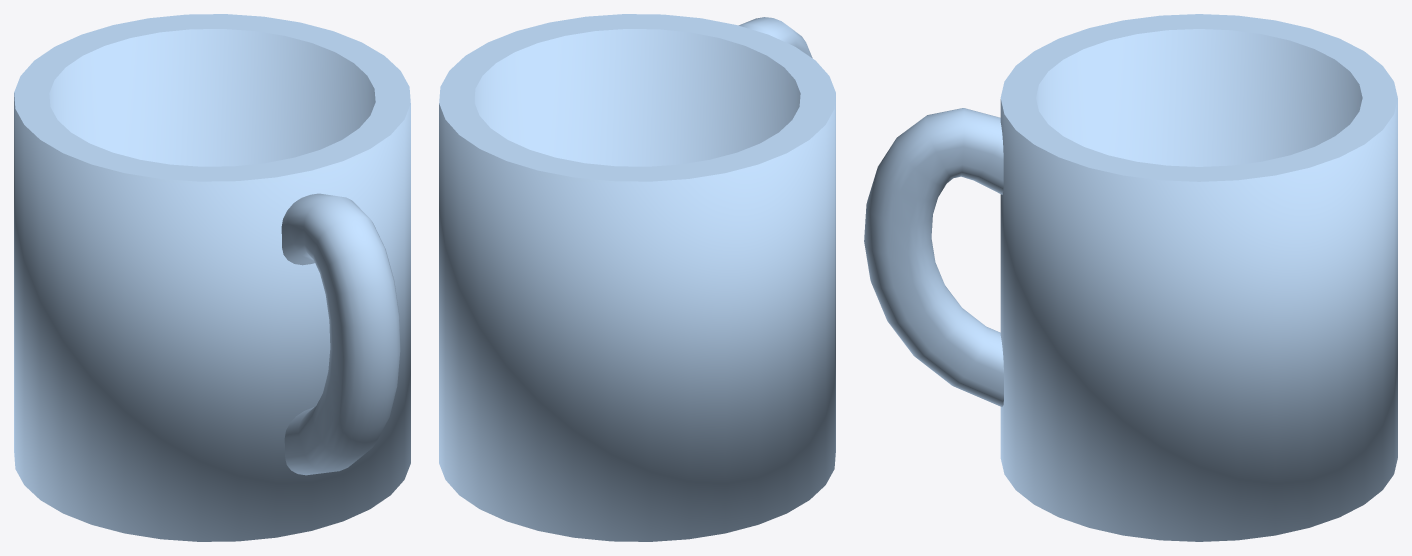
File: mug.fbx
3 views of the same model, side by side, from view 1: azimuth 30°, elevation 25°; view 2: azimuth 150°, elevation 25°; view 3: azimuth 270°, elevation 25° (orthographic).
Parts seen in each view (by area): view 1: BezierCurve; view 2: BezierCurve; view 3: BezierCurve.
Boxes of the visible parts, left/top/right/bottom form: BezierCurve: left=14, top=14, right=410, bottom=541; BezierCurve: left=439, top=14, right=835, bottom=541; BezierCurve: left=864, top=14, right=1397, bottom=541.
Bounding box in the file's own units: 200 × 200 × 269.
